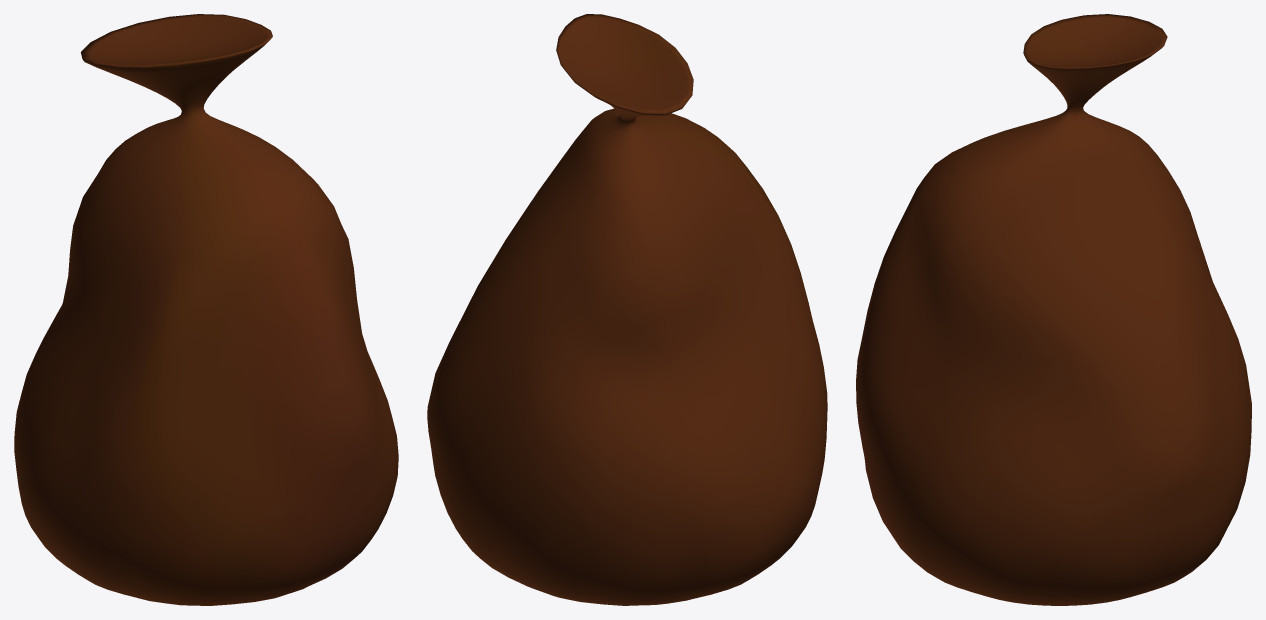
Rendered from GarbageBag_03.fbx.
The picture shows the model from 3 angles, left to right: view 1: azimuth 30°, elevation 25°; view 2: azimuth 150°, elevation 25°; view 3: azimuth 270°, elevation 25°; orthographic projection.
Parts seen in each view (by area): view 1: GarbageBag_03; view 2: GarbageBag_03; view 3: GarbageBag_03.
Boxes of the visible parts, box(x1,y1,x2,y2) form: GarbageBag_03: box(14, 14, 398, 605); GarbageBag_03: box(427, 14, 827, 605); GarbageBag_03: box(856, 14, 1251, 605).
Size of the model in its own units: 1.28 by 1.3 by 1.92.
